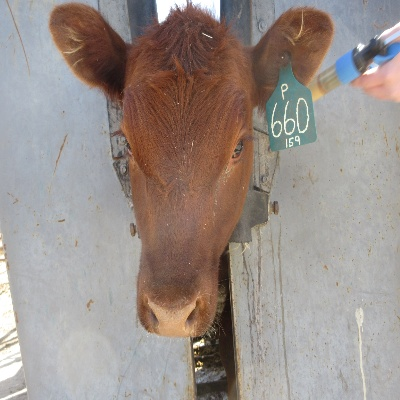fidget_spinner: (127, 289, 214, 343), (137, 286, 209, 340)
